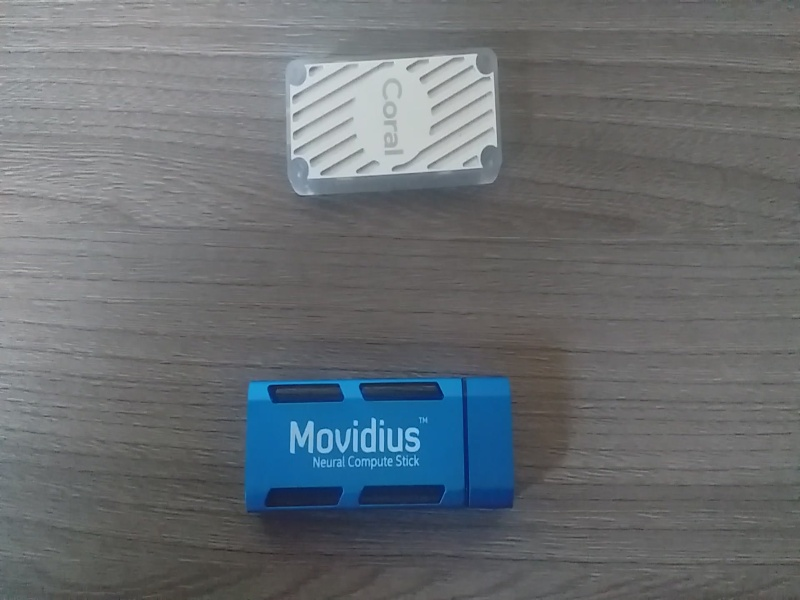coral: (276, 52, 506, 212)
movidius: (229, 370, 526, 512)
